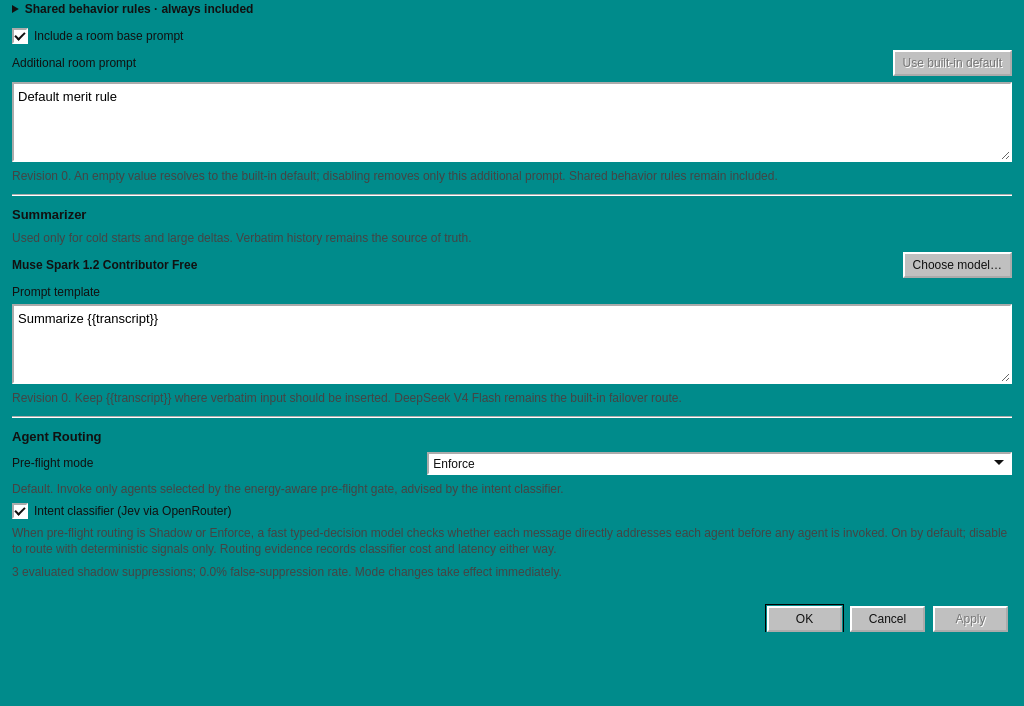
Test: RoomConfigurationPanel › retries a failed model catalog request without closing the chooser
Check: the heading "Summarizer" is shown, box [12,207,86,222]
What coordinates should you click on to do the following:
click the button "Choose model…"
I would click on:
 (957, 265)
Its box is [903,252,1012,278].
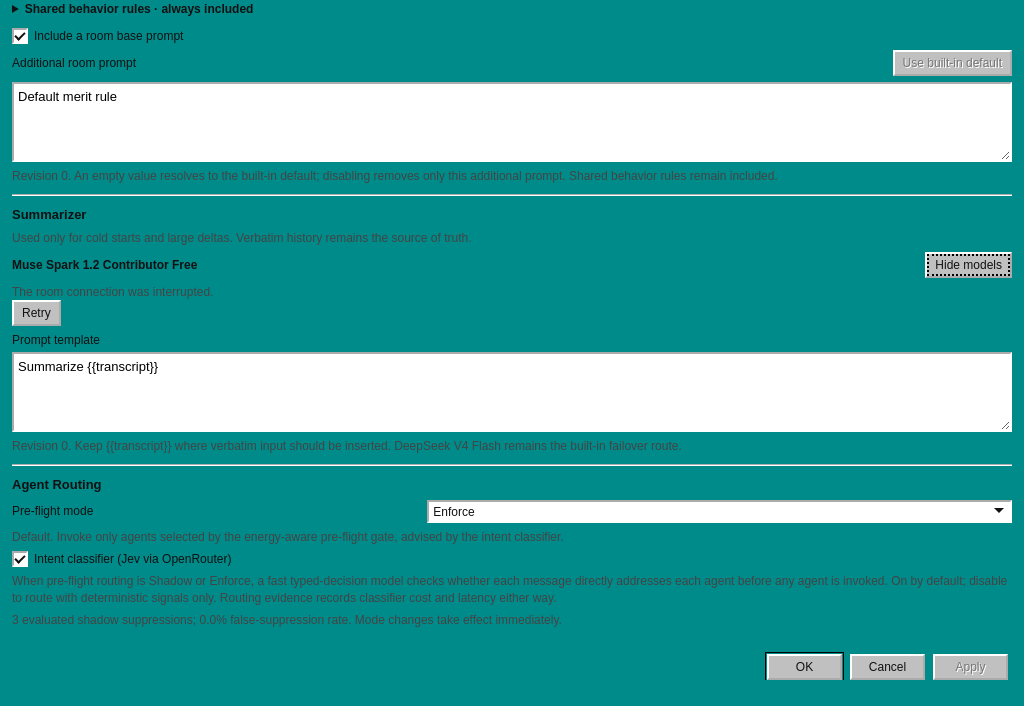
Check: the message shows "connection was interrupted", box [12,285,214,299]
What coordinates should you click on to do the following:
click the button "Retry"
I would click on:
 (36, 313)
Its box is [12,300,61,326].
(page scrolled)
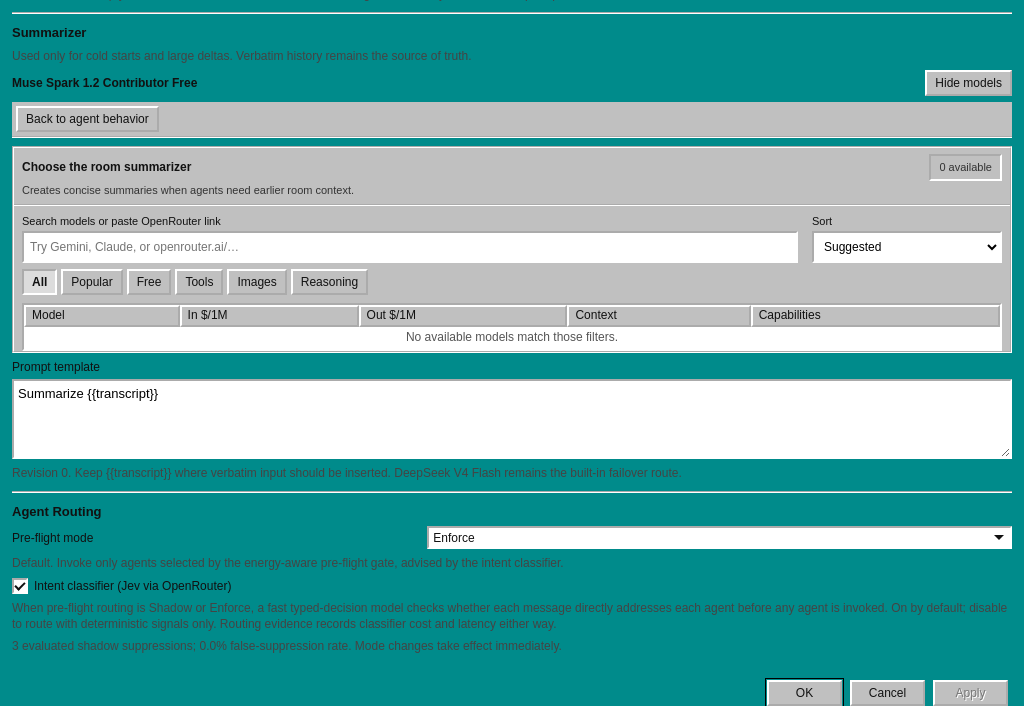
Check: the text "0 available" is shown, box [929,154,1002,181]
